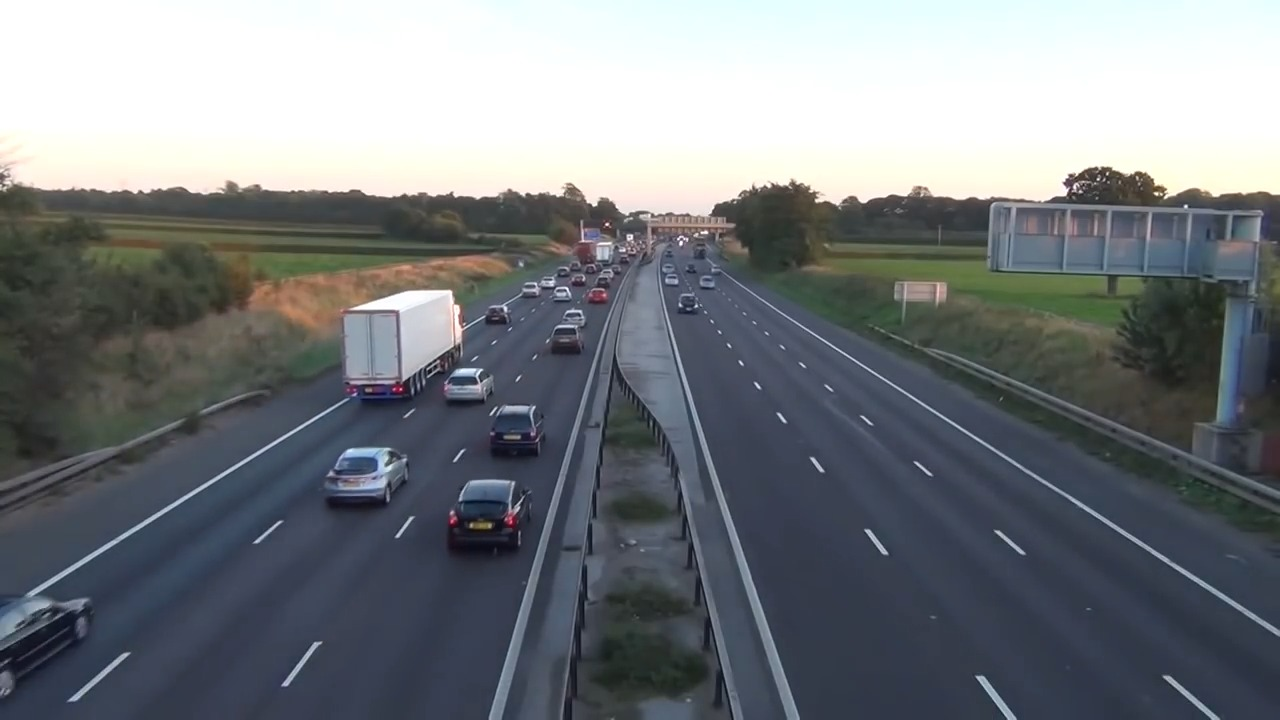truck: (339, 285, 466, 407)
